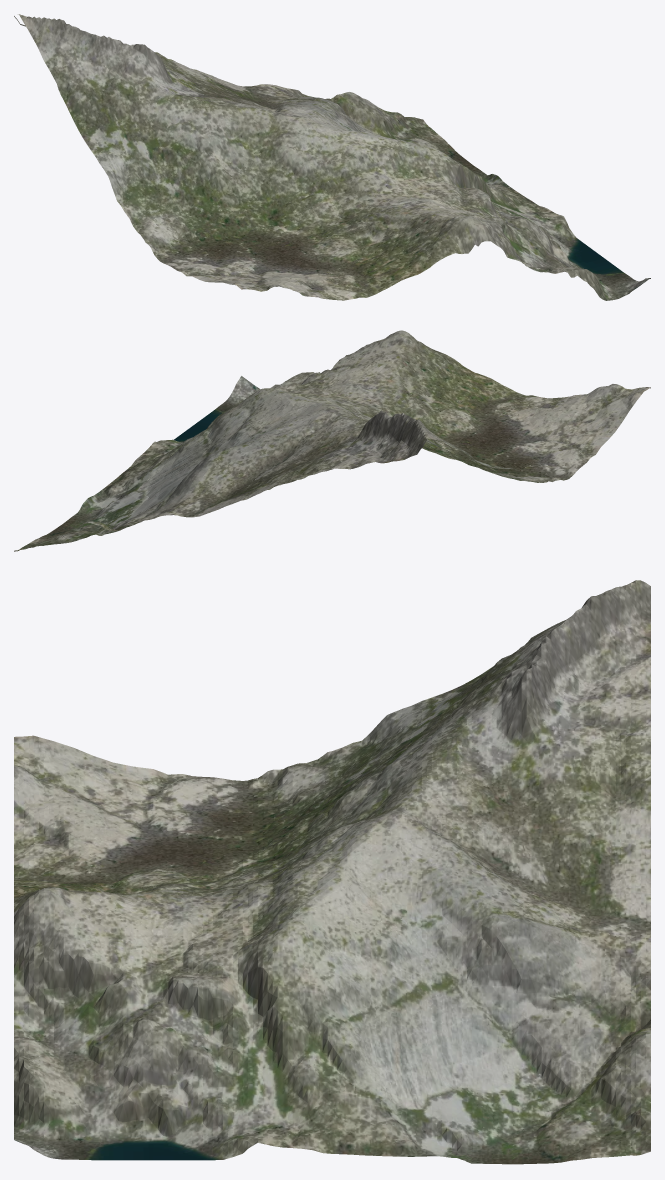
3 renders of one model, top to bottom at view 1: azimuth 30°, elevation 25°; view 2: azimuth 150°, elevation 25°; view 3: azimuth 270°, elevation 25°, orthographic. The views are drawn at different scales.
Size of the model in its own units: 1000 by 512 by 963.
1 material, 1 textured.
